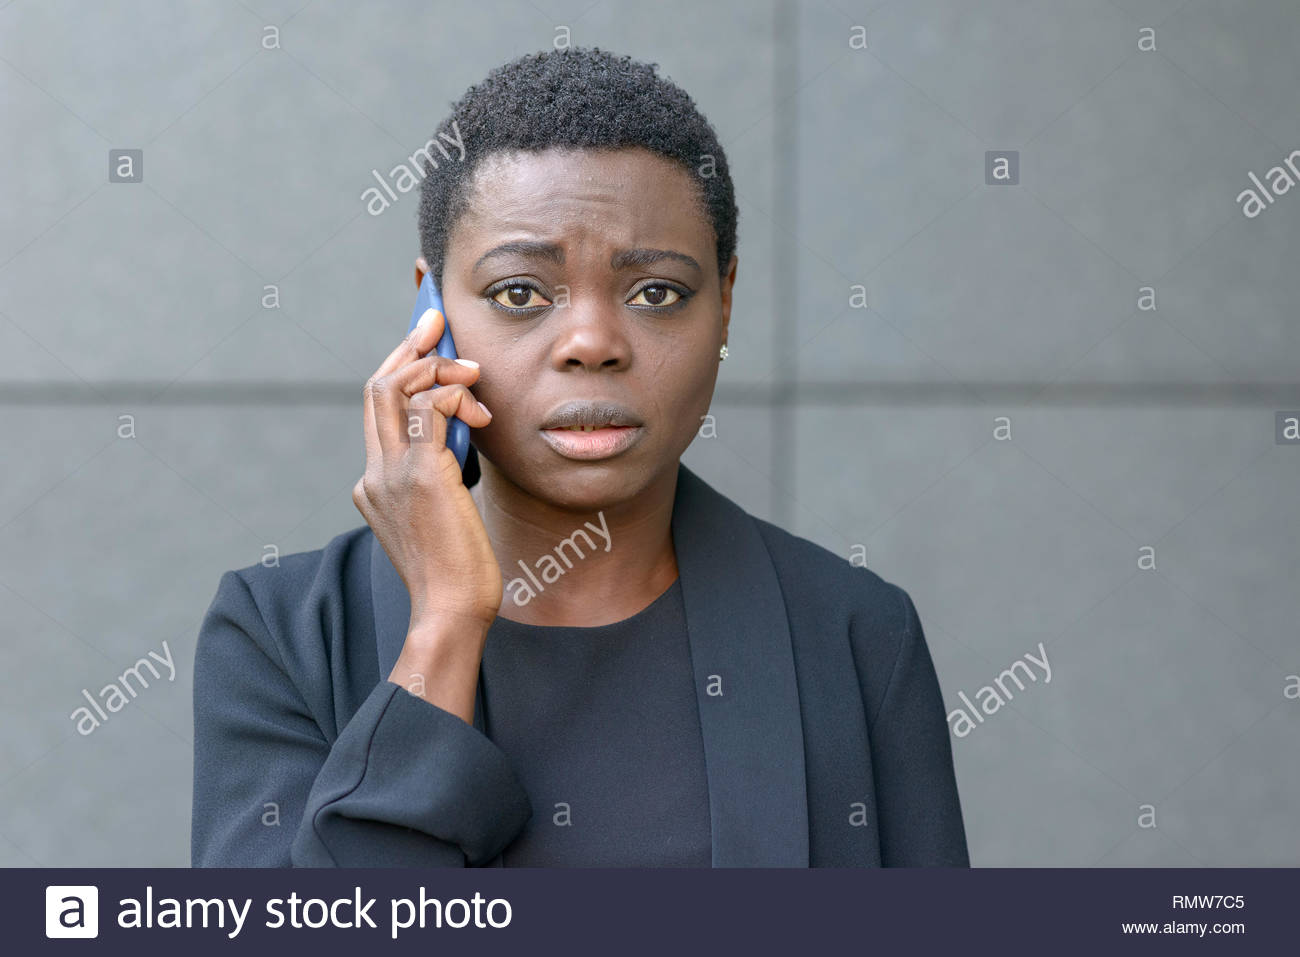phone: (372, 273, 497, 488)
talk: (344, 226, 706, 610)
